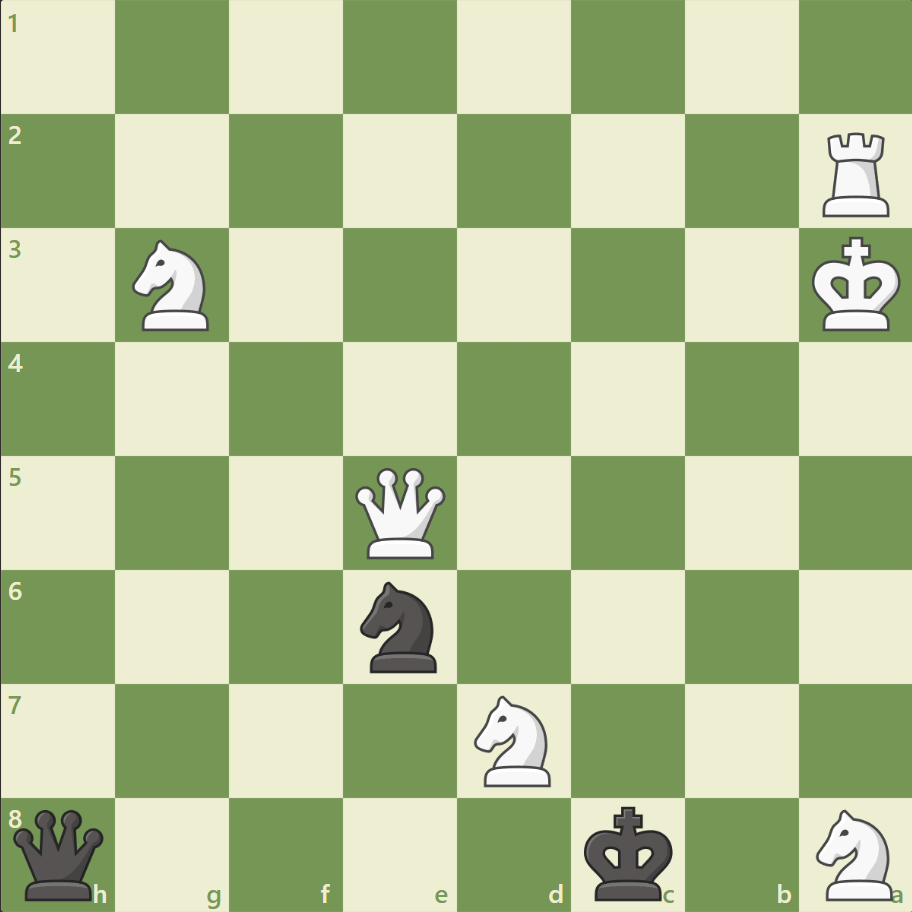K: (806, 231, 906, 339)
N: (124, 234, 222, 337), (465, 688, 562, 791), (806, 802, 903, 904)
Q: (351, 463, 450, 562)
R: (814, 125, 897, 222)
k: (579, 798, 679, 906)
n: (351, 575, 449, 677)
q: (10, 804, 109, 903)
